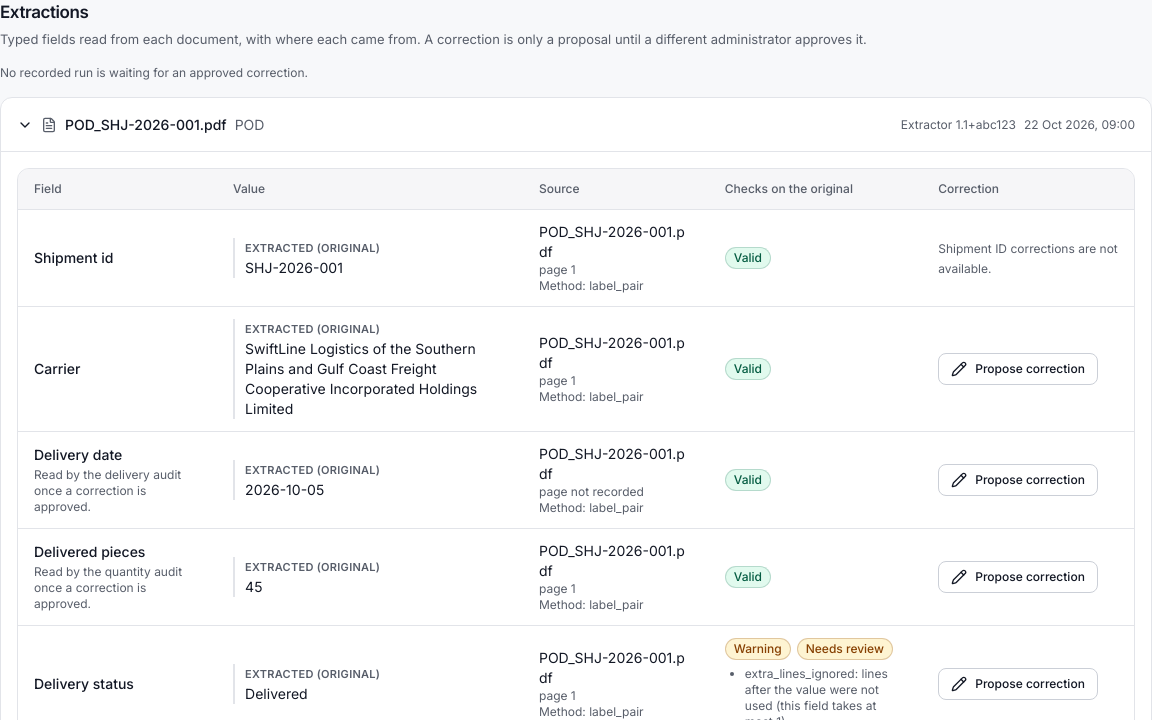
Scenario: proposing a correction › on a stale version asks the user to reload, then sends the new version
Check: the text "Delivered pieces" is shown, box x1=34 y1=542 x2=145 y2=560
Click the button with aria-label "Propose a correction for Delivered pieces".
click(1018, 576)  # box x1=938 y1=560 x2=1098 y2=592
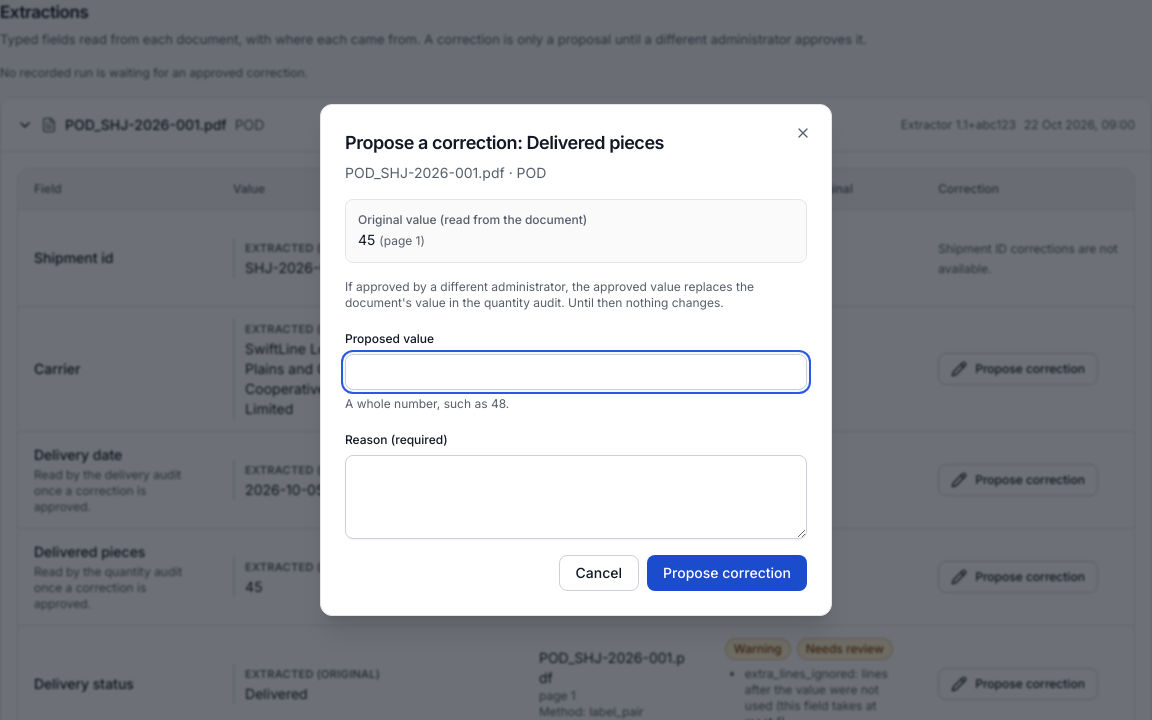
Type "48" into the field labelled "Proposed value".
click(576, 372); type("48")  # box x1=345 y1=354 x2=807 y2=390
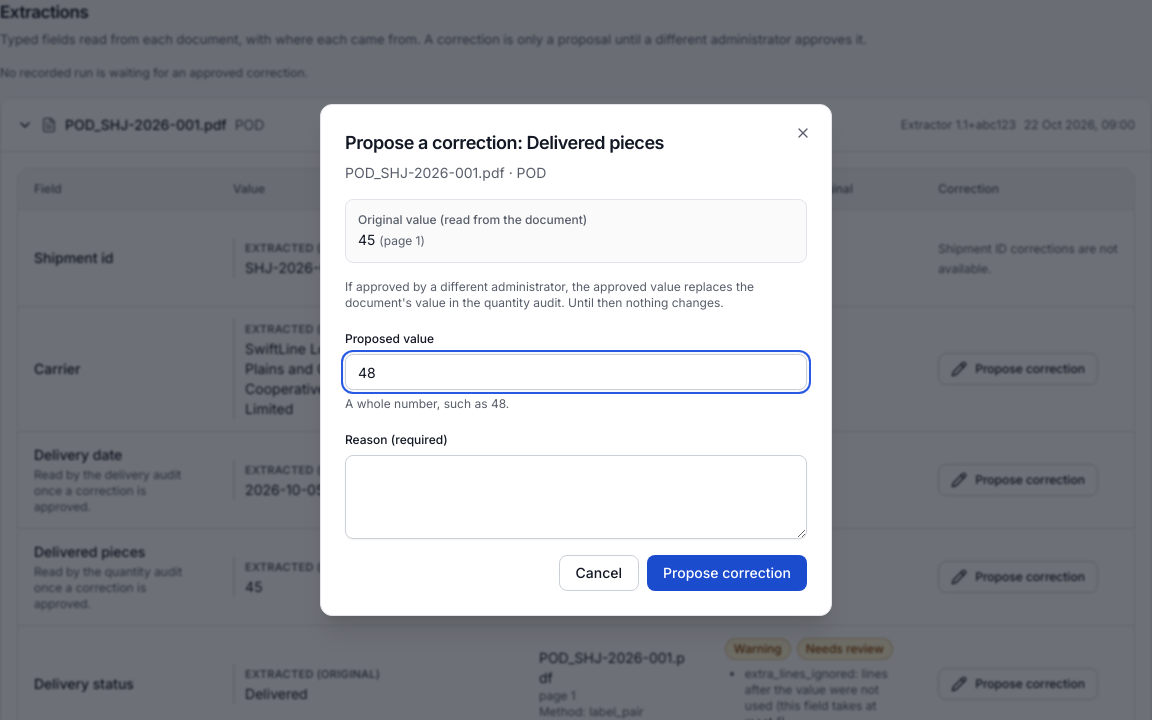
Type "The paper POD shows 48 pieces." into the text box labelled "Reason (required)".
click(576, 497); type("The paper POD shows 48 pieces.")  # box x1=345 y1=455 x2=807 y2=539
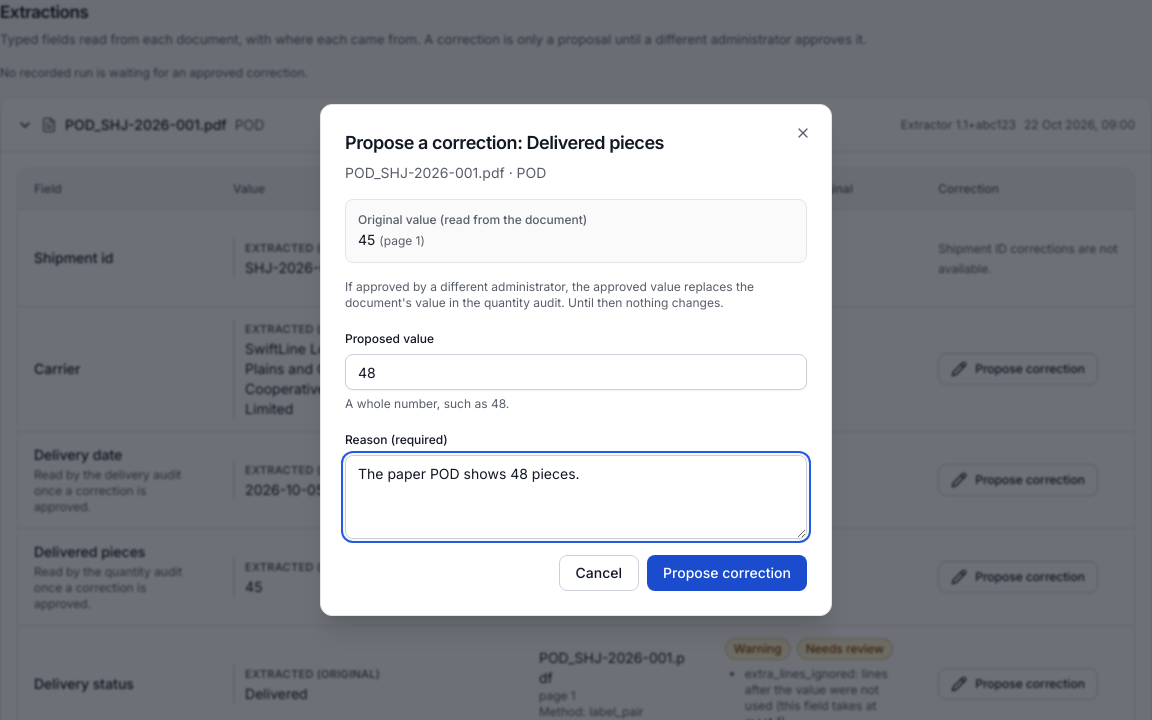
Click the button "Propose correction".
click(727, 573)  # box x1=647 y1=555 x2=807 y2=591
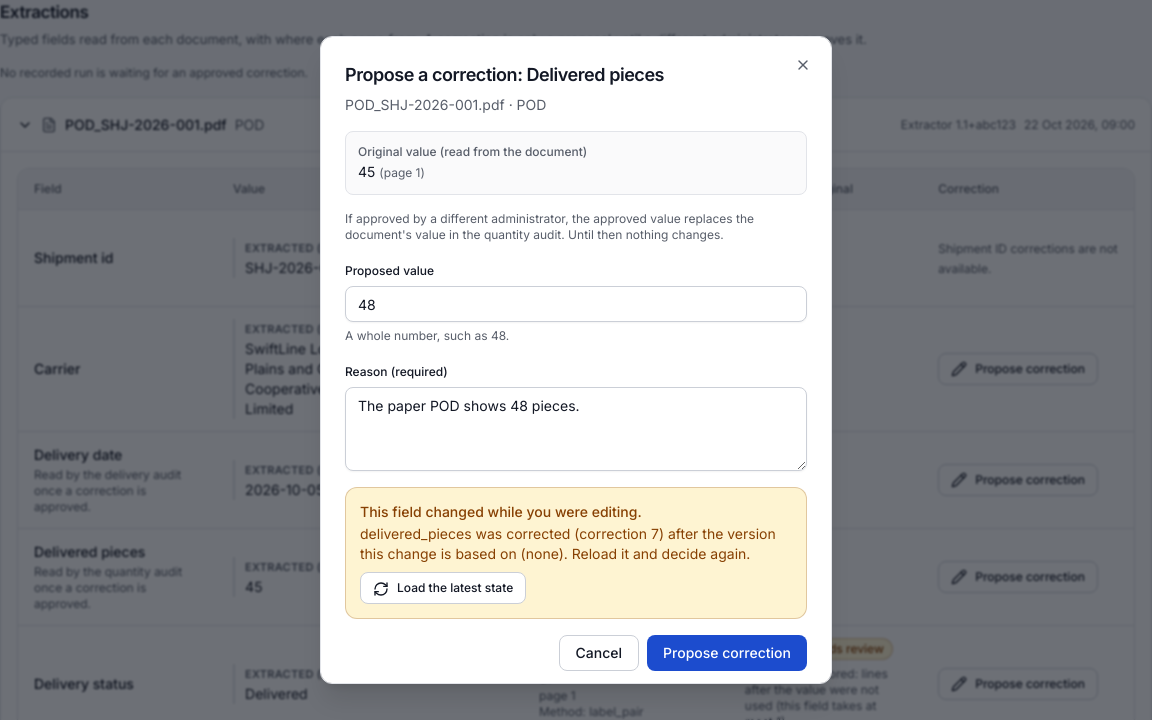
Check: the text "recorded: awaiting approval" is not shown
Check: the text "This field changed while you were editing." is shown, box x1=360 y1=503 x2=642 y2=520
Check: the text "was corrected (correction 7)" is shown, box x1=360 y1=525 x2=776 y2=562
Click the button "Load the latest state".
click(443, 588)  # box x1=360 y1=572 x2=526 y2=604
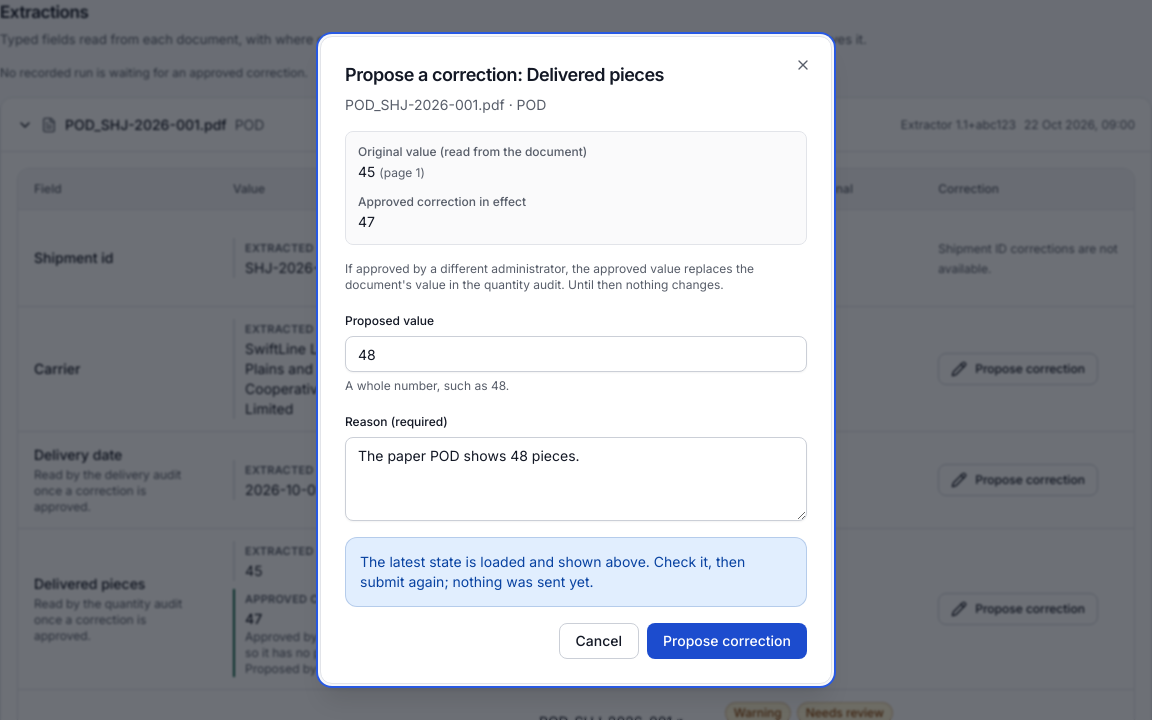
Check: the text "Check it, then submit again; nothing was sent yet" is shown, box x1=360 y1=553 x2=745 y2=590
Check: the text with test id "approved-value" reads "47", box x1=358 y1=213 x2=375 y2=230
Click the button "Propose correction".
click(727, 641)  # box x1=647 y1=623 x2=807 y2=659
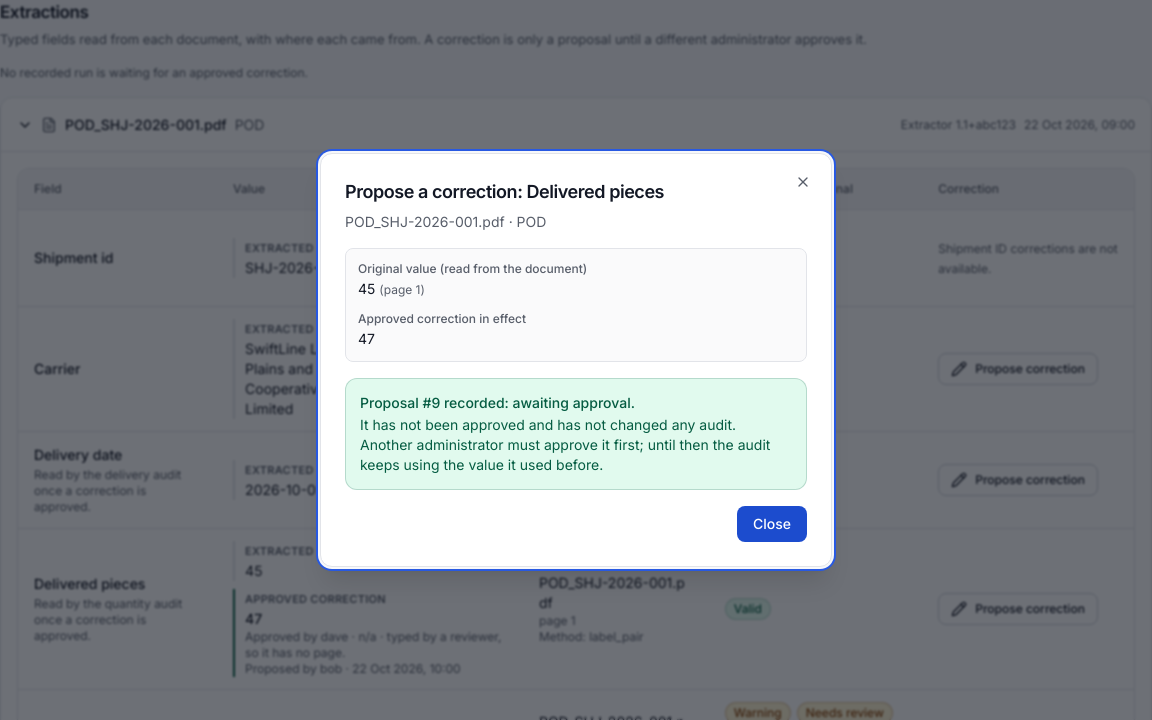
Check: the text "Proposal #9 recorded: awaiting approval." is shown, box x1=360 y1=394 x2=635 y2=411
